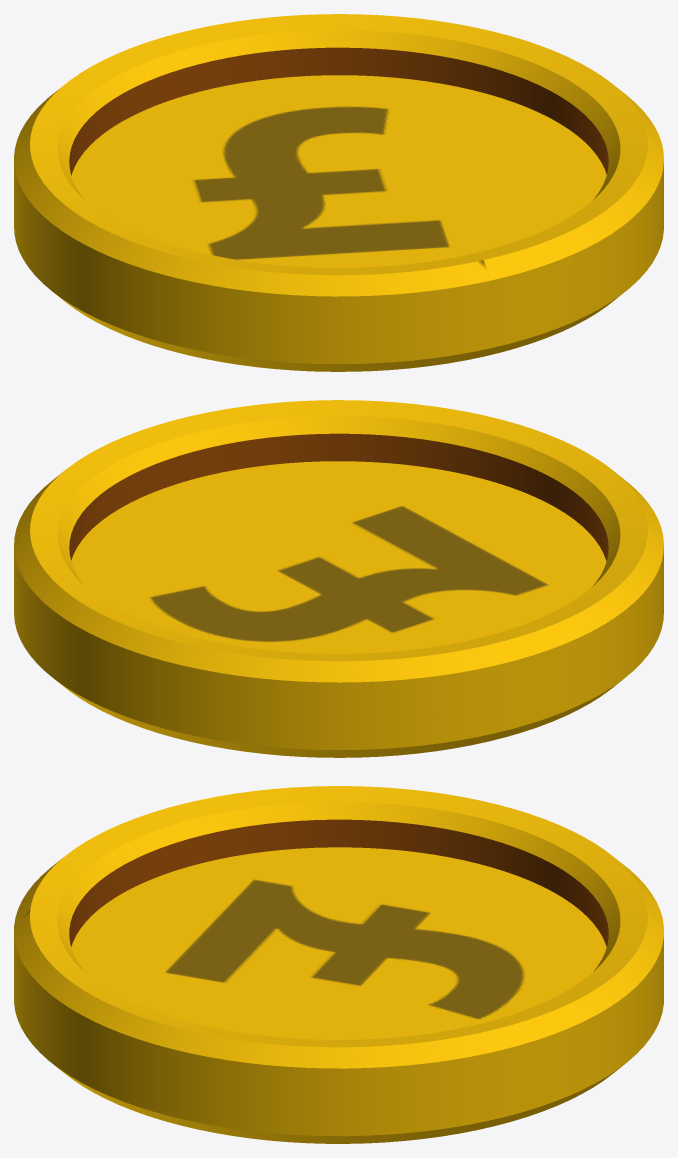
The model's file is Coin 1.FBX.
3 views of the same model, one above another, from view 1: azimuth 30°, elevation 25°; view 2: azimuth 150°, elevation 25°; view 3: azimuth 270°, elevation 25° (orthographic).
Visible parts, largest first — view 1: Object001; view 2: Object001; view 3: Object001.
Boxes of the visible parts, x1,y1,x2,y2 form: Object001: (14, 14, 663, 371); Object001: (14, 400, 663, 757); Object001: (14, 786, 663, 1143).
Size of the model in its own units: 6.16 by 1.01 by 6.16.
1 material, 1 textured.
